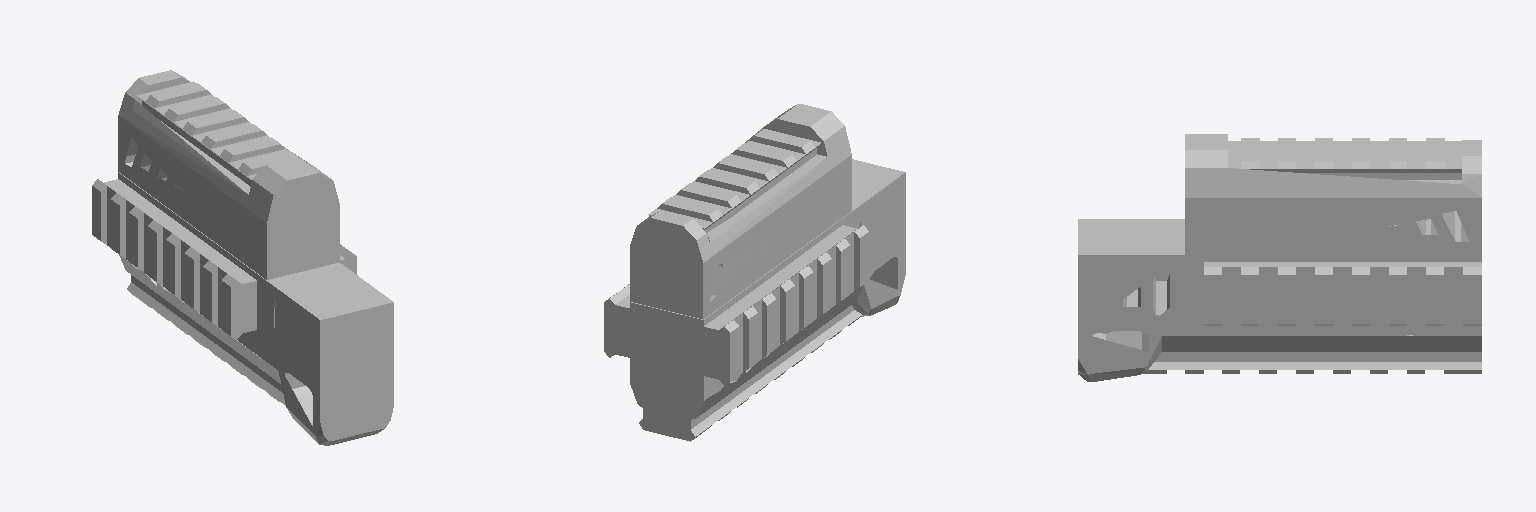
File: Grip2.obj
3 views of the same model, side by side, from view 1: azimuth 30°, elevation 25°; view 2: azimuth 150°, elevation 25°; view 3: azimuth 270°, elevation 25° (orthographic).
Parts seen in each view (by area): view 1: Cube.009; view 2: Cube.009; view 3: Cube.009.
Boxes of the visible parts, x1=… form: Cube.009: x1=92, y1=70, x2=393, y2=445; Cube.009: x1=604, y1=104, x2=905, y2=441; Cube.009: x1=1078, y1=134, x2=1481, y2=381.
Size of the model in its own units: 0.0725 by 0.125 by 0.2011.